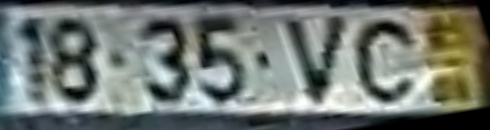1: (12, 15, 58, 106)
3: (137, 16, 196, 108)
5: (191, 14, 252, 107)
8: (47, 14, 106, 107)
C: (355, 17, 422, 108)
V: (281, 16, 353, 107)
